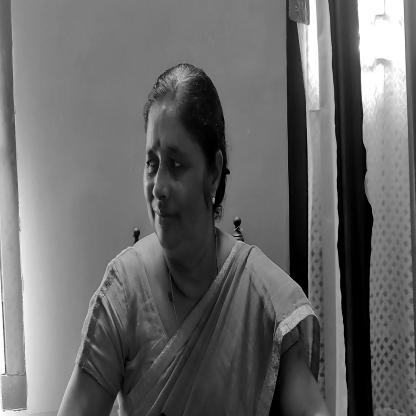Distracted: (143, 73, 218, 264)
